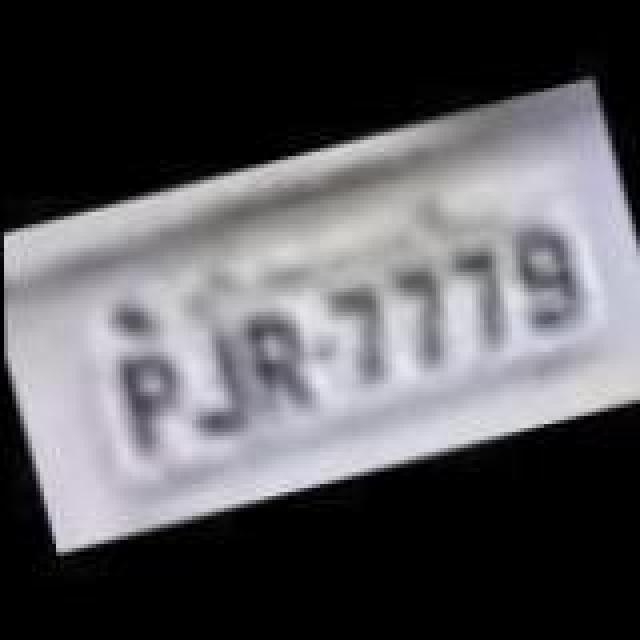7: (440, 244, 528, 364), (382, 266, 458, 378), (318, 280, 394, 392)
9: (500, 218, 596, 338)
J: (170, 324, 258, 444)
P: (110, 340, 198, 460)
R: (232, 304, 320, 424)
